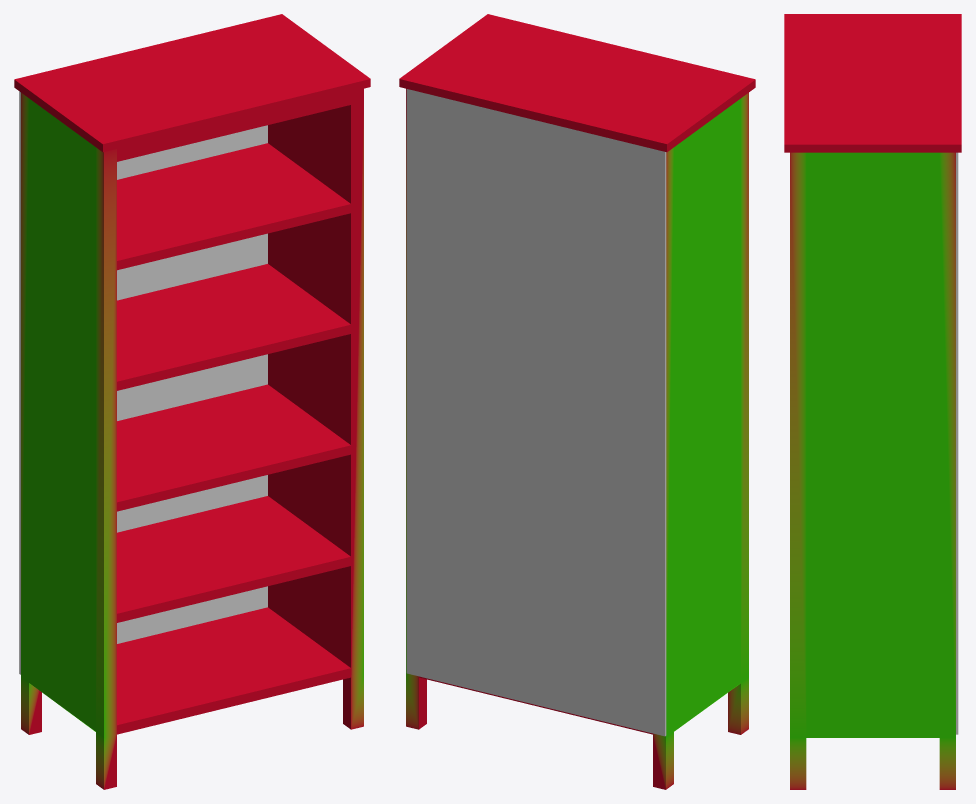
File: Housecabinet3.fbx
3 views of the same model, side by side, from view 1: azimuth 30°, elevation 25°; view 2: azimuth 150°, elevation 25°; view 3: azimuth 270°, elevation 25° (orthographic).
Parts seen in each view (by area): view 1: ShelveA_low; view 2: ShelveA_low; view 3: ShelveA_low.
Boxes of the visible parts, x1=… form: ShelveA_low: x1=14, y1=14, x2=370, y2=789; ShelveA_low: x1=399, y1=14, x2=755, y2=789; ShelveA_low: x1=784, y1=14, x2=961, y2=789.
Size of the model in its own units: 91.11 by 211 by 52.22.
